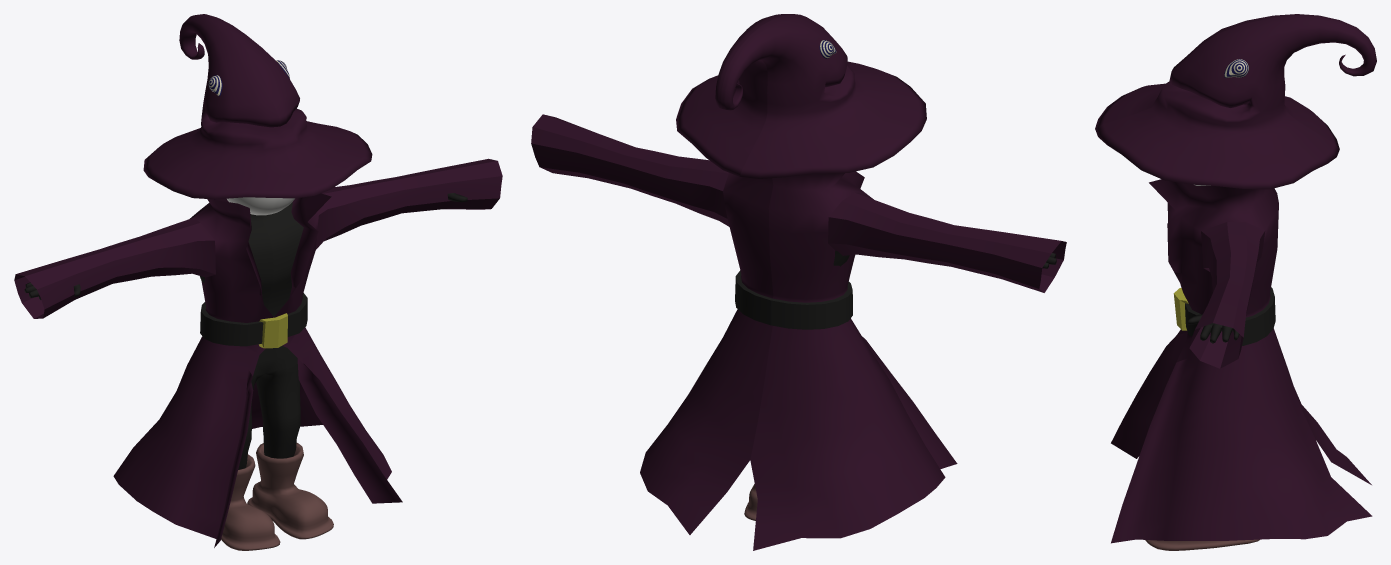
Rendered from Nim statue lower poly.fbx.
3 renders of one model, left to right at view 1: azimuth 30°, elevation 25°; view 2: azimuth 150°, elevation 25°; view 3: azimuth 270°, elevation 25°, orthographic. The views are drawn at different scales.
Visible parts, largest first — view 1: Coat, Hat, Body1, Mask1; view 2: Coat, Hat; view 3: Coat, Hat, Body1.
Boxes of the visible parts, x1=… form: Coat: x1=14, y1=158, x2=502, y2=547; Hat: x1=143, y1=14, x2=372, y2=199; Body1: x1=24, y1=193, x2=467, y2=550; Mask1: x1=227, y1=197, x2=294, y2=215; Coat: x1=531, y1=114, x2=1066, y2=550; Hat: x1=676, y1=14, x2=926, y2=178; Coat: x1=1111, y1=179, x2=1372, y2=543; Hat: x1=1095, y1=14, x2=1376, y2=189; Body1: x1=1145, y1=314, x2=1259, y2=550.
Bounding box in the file's own units: 173 × 164 × 82.35.
